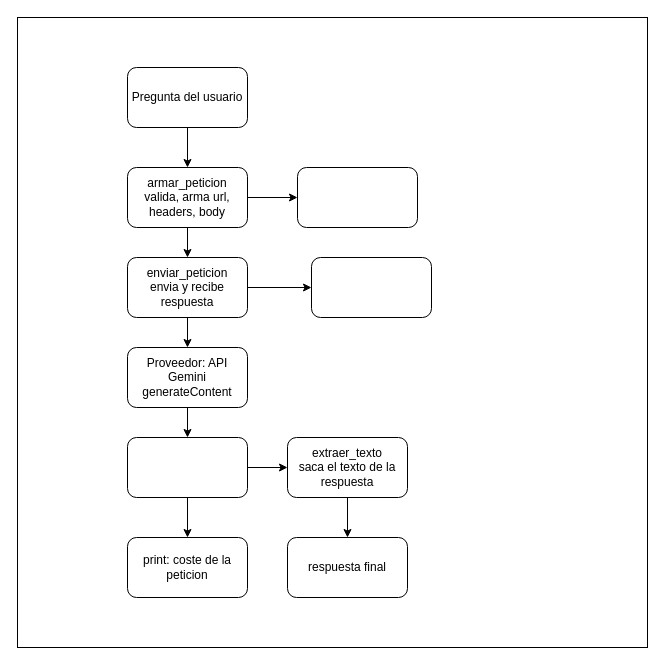
The diagram is 665 pixels wide and 665 high, and some of its shapes have lost their labels. Here are the shapes that lost their labels. From the top down, the box of each, then its label:
(296, 166, 418, 228): .env lee api key
(310, 256, 432, 318): try catch Timeout, ConnectionError, RequestException
(126, 436, 248, 498): calcular_costos usageMetadata
